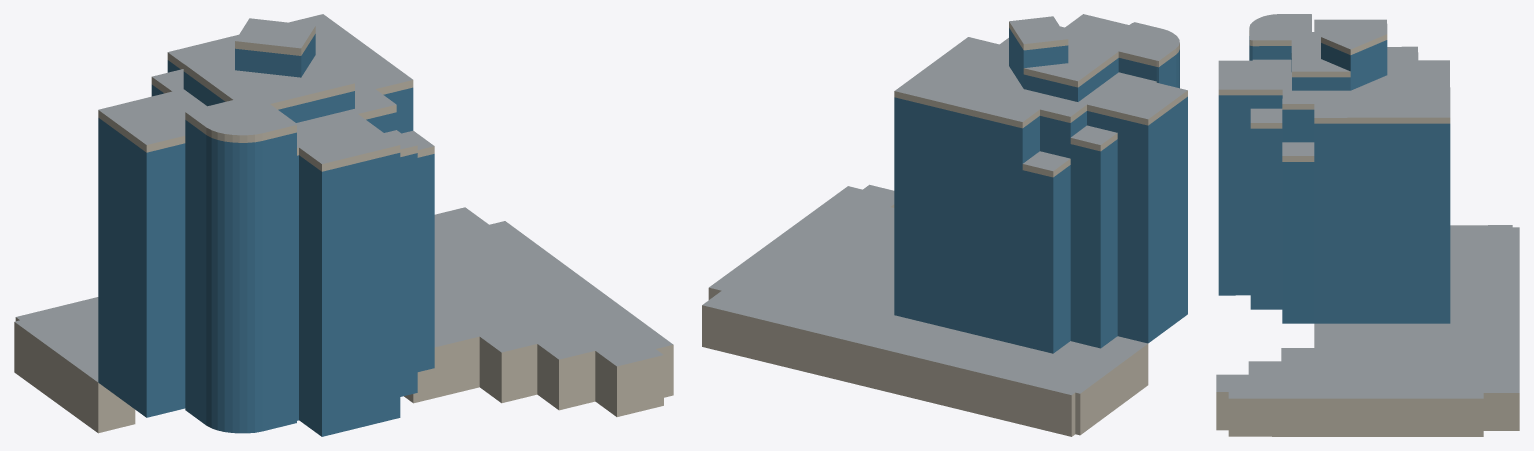
Rendered from broadway_centre.glb.
3 views of the same model, side by side, from view 1: azimuth 30°, elevation 25°; view 2: azimuth 150°, elevation 25°; view 3: azimuth 270°, elevation 25° (orthographic). The views are drawn at different scales.
Visible parts, largest first — view 1: Broadway_Centre; view 2: Broadway_Centre; view 3: Broadway_Centre.
Part boxes in pixels (box(x1,y1,x2,y2)): Broadway_Centre: box(14, 14, 673, 436); Broadway_Centre: box(702, 14, 1187, 436); Broadway_Centre: box(1216, 14, 1519, 436).
Size of the model in its own units: 77.77 by 59.6 by 57.46.
